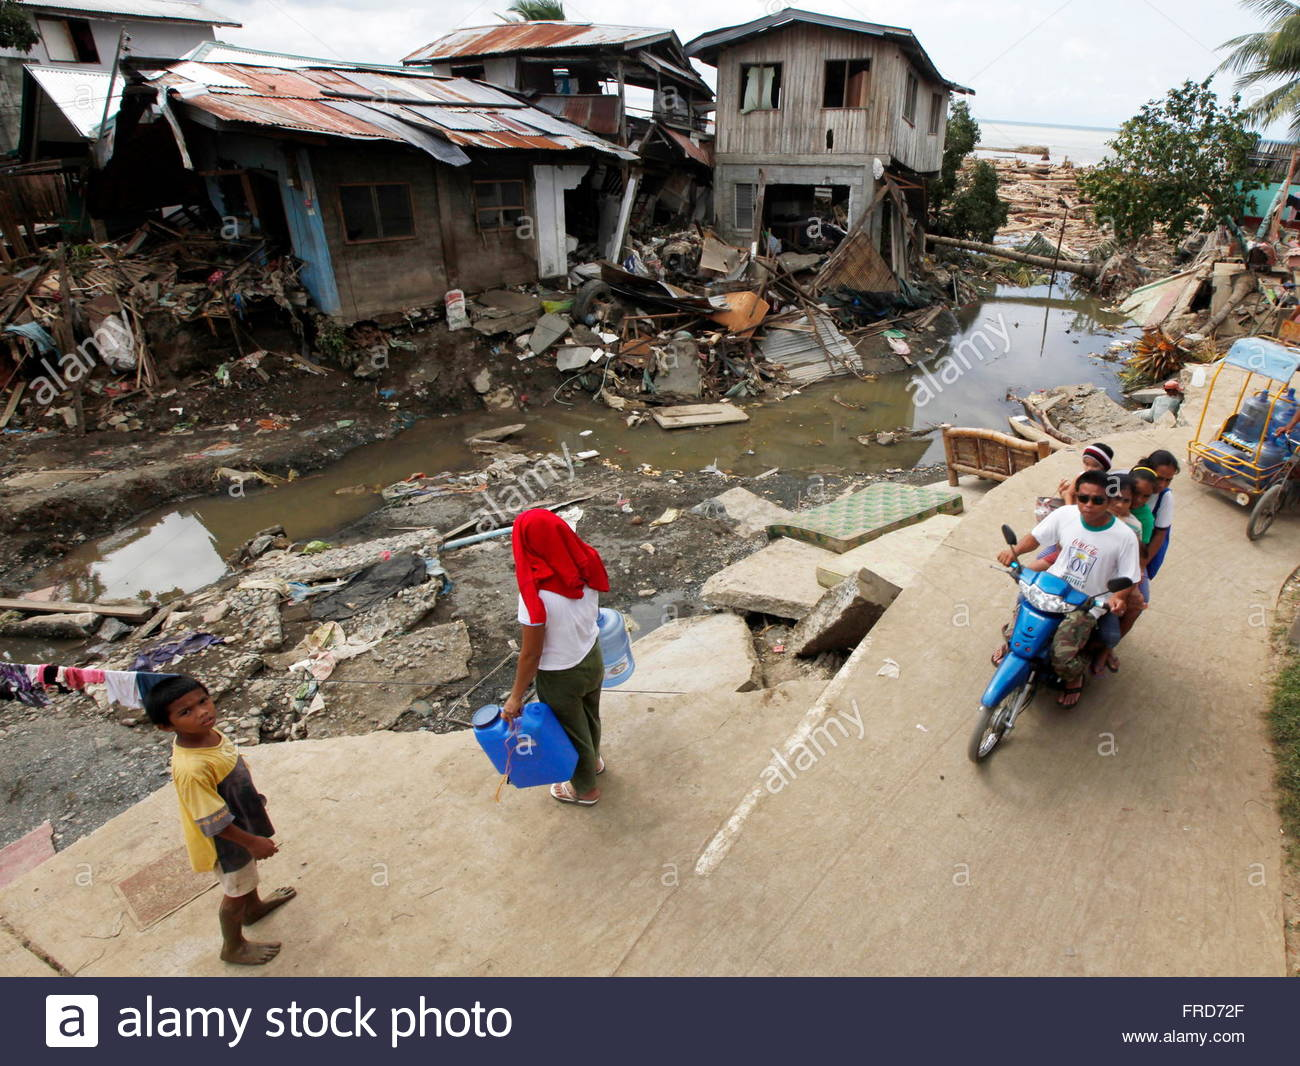house: (677, 12, 1012, 299)
person: (492, 489, 606, 836), (164, 625, 278, 972), (1020, 469, 1130, 685)
trash: (552, 237, 837, 391)
tree: (1090, 87, 1266, 252), (1210, 1, 1299, 273)
water: (771, 380, 940, 463), (104, 501, 227, 591), (991, 287, 1112, 376), (270, 473, 352, 532), (379, 424, 457, 477)
